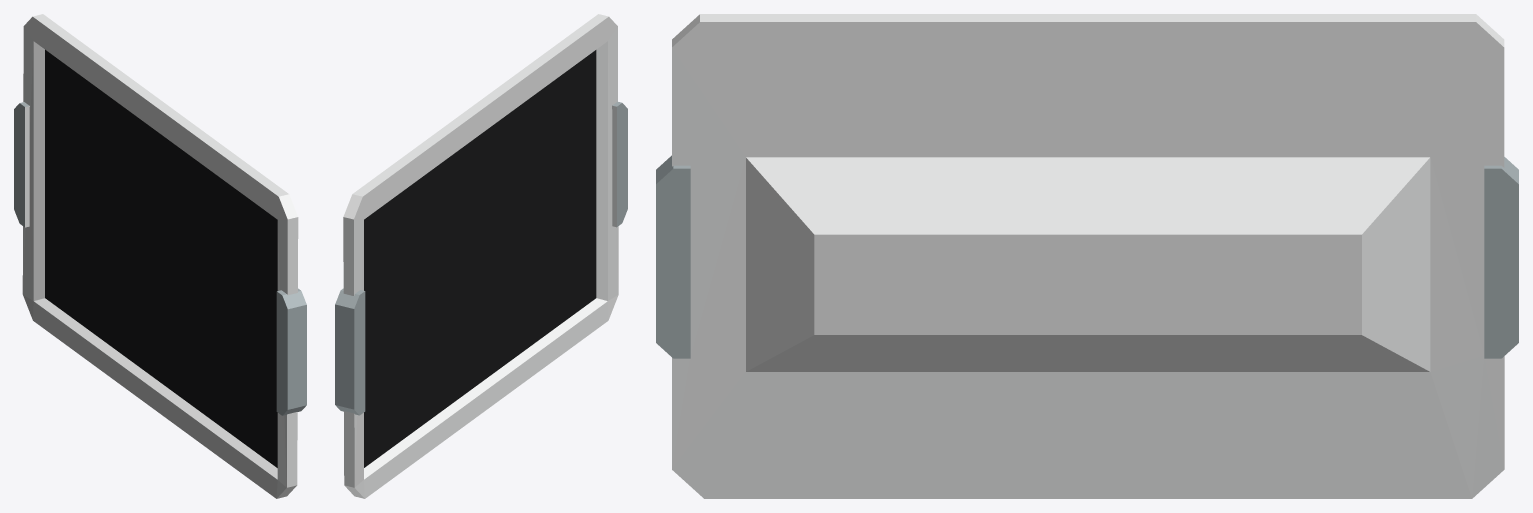
The model's file is Monitor.fbx.
3 renders of one model, left to right at view 1: azimuth 30°, elevation 25°; view 2: azimuth 150°, elevation 25°; view 3: azimuth 270°, elevation 25°, orthographic. The views are drawn at different scales.
Visible parts, largest first — view 1: Monitor; view 2: Monitor; view 3: Monitor.
Part boxes in pixels (x1=…): Monitor: x1=14, y1=14, x2=306, y2=498; Monitor: x1=335, y1=14, x2=627, y2=498; Monitor: x1=656, y1=14, x2=1518, y2=498.
Bounding box in the file's own units: 6.37 × 44.23 × 72.42.
Materials: 1 (1 with a texture image).
